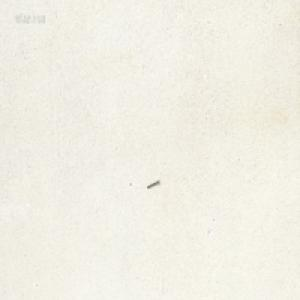Bolt: (145, 178, 159, 188)
